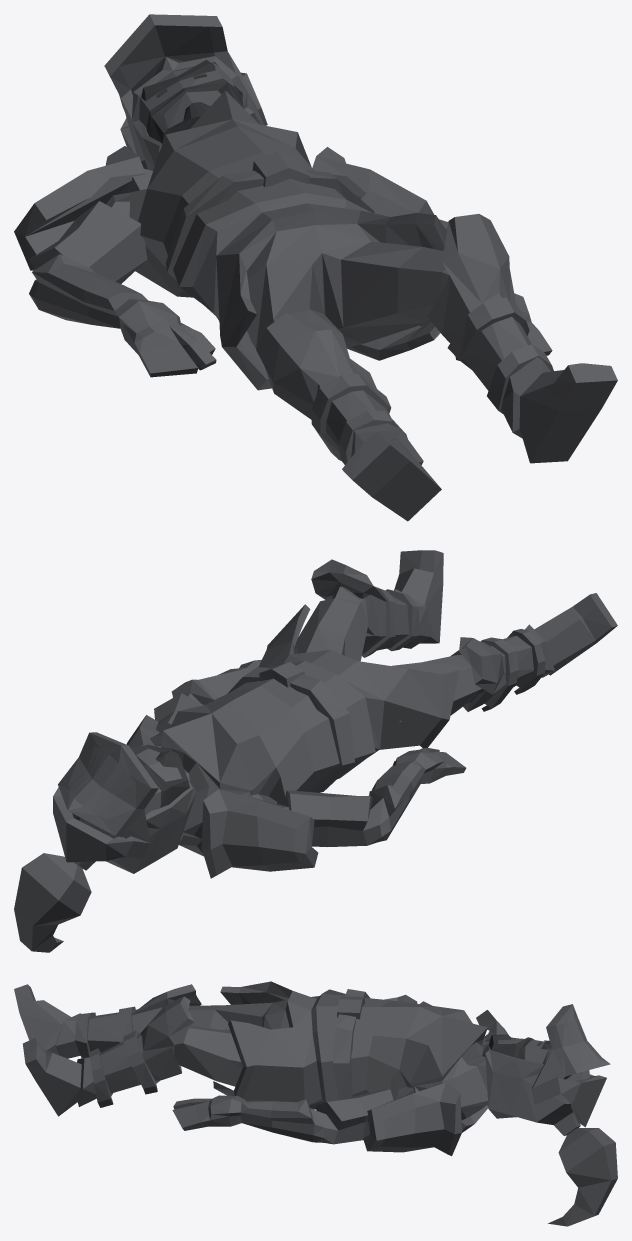
The model's file is castle_dead_knight.gltf.
3 renders of one model, top to bottom at view 1: azimuth 30°, elevation 25°; view 2: azimuth 150°, elevation 25°; view 3: azimuth 270°, elevation 25°, orthographic. The views are drawn at different scales.
Parts seen in each view (by area): view 1: castle_dead_knight; view 2: castle_dead_knight; view 3: castle_dead_knight.
Boxes of the visible parts, box(x1,y1,x2,y2) form: castle_dead_knight: box(14, 14, 617, 521); castle_dead_knight: box(14, 550, 617, 952); castle_dead_knight: box(14, 981, 617, 1226).
Size of the model in its own units: 0.9013 by 0.7014 by 1.91.
Materials: 1 (1 with a texture image).
